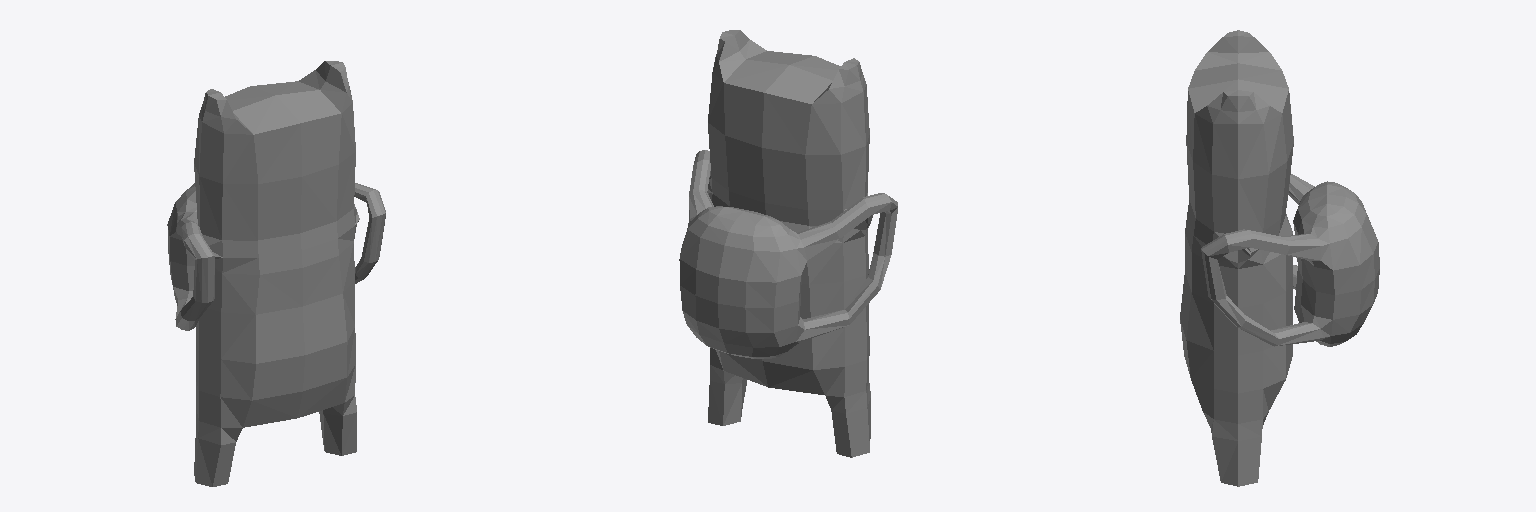
File: Torso.obj
The picture shows the model from 3 angles: view 1: azimuth 30°, elevation 25°; view 2: azimuth 150°, elevation 25°; view 3: azimuth 270°, elevation 25°; orthographic projection.
Visible parts, largest first — view 1: Finn; view 2: Finn; view 3: Finn.
Boxes of the visible parts, x1=… form: Finn: x1=167, y1=61, x2=385, y2=486; Finn: x1=679, y1=30, x2=897, y2=457; Finn: x1=1180, y1=30, x2=1379, y2=486.
Bounding box in the file's own units: 25.04 × 47.08 × 22.2.